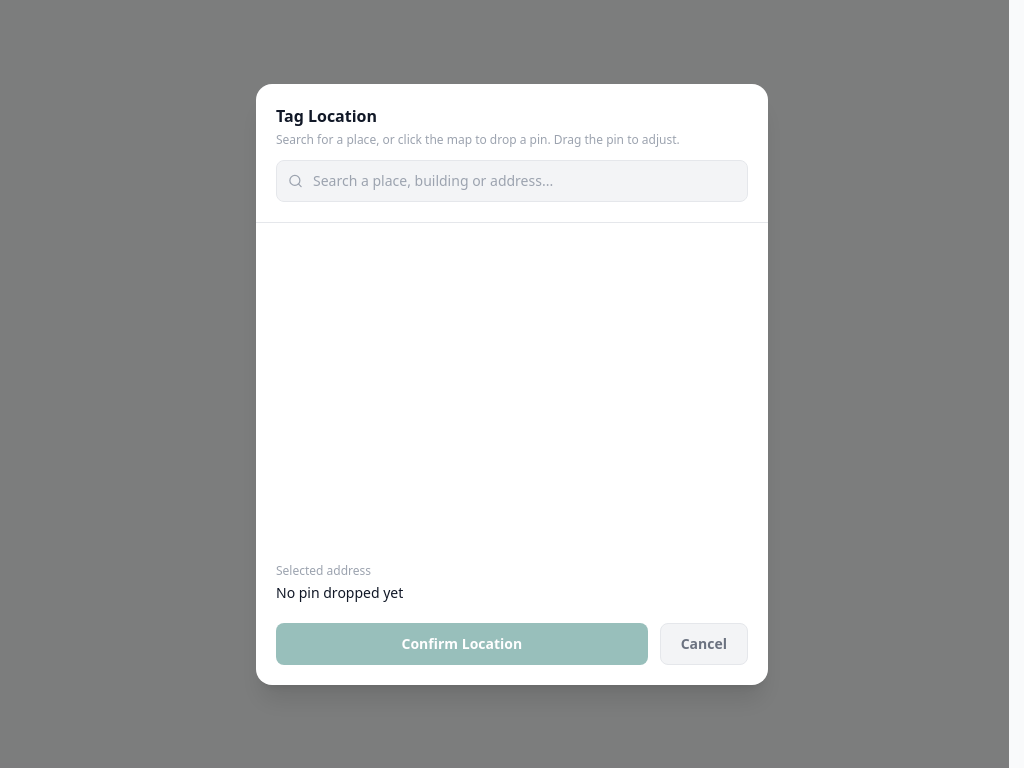
Scenario: LocationPicker place search › retrieves a selected place, moves the pin, and confirms its coordinates and address
Later steps or results of the test are not shown.
In the field with placeholder "Search a place, building or address...": (512,180) [276, 160, 748, 202], type "KLCC"
Wait 300 ms
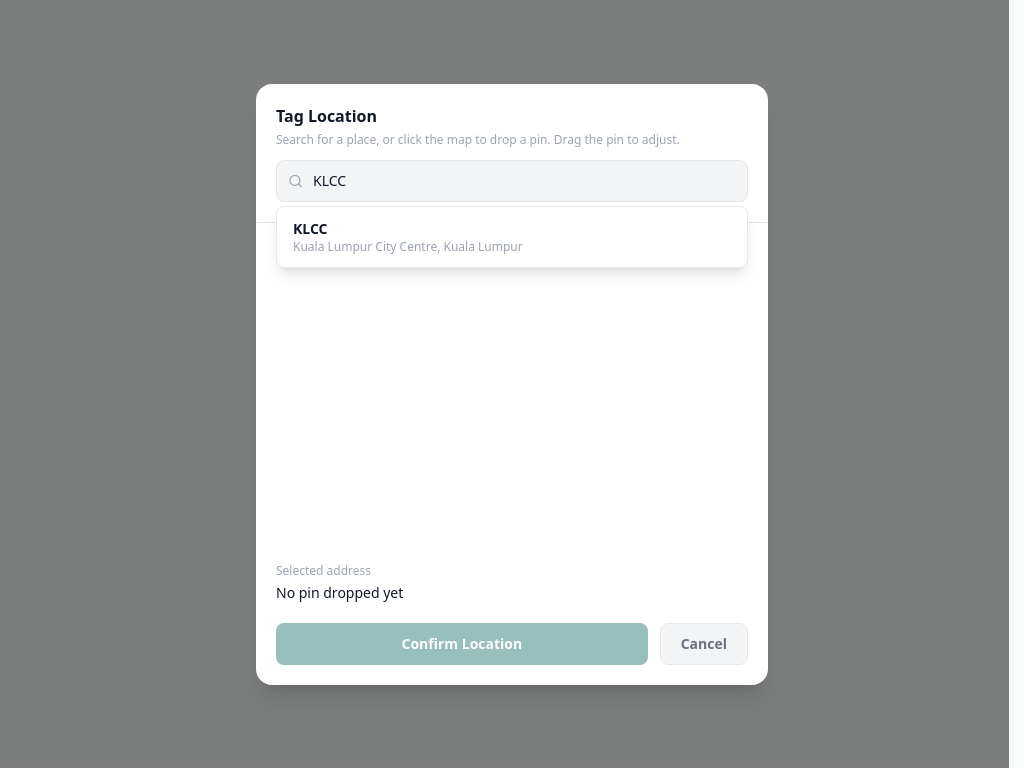
Press the mouse on the text "KLCC": (310,228) [293, 218, 328, 238]
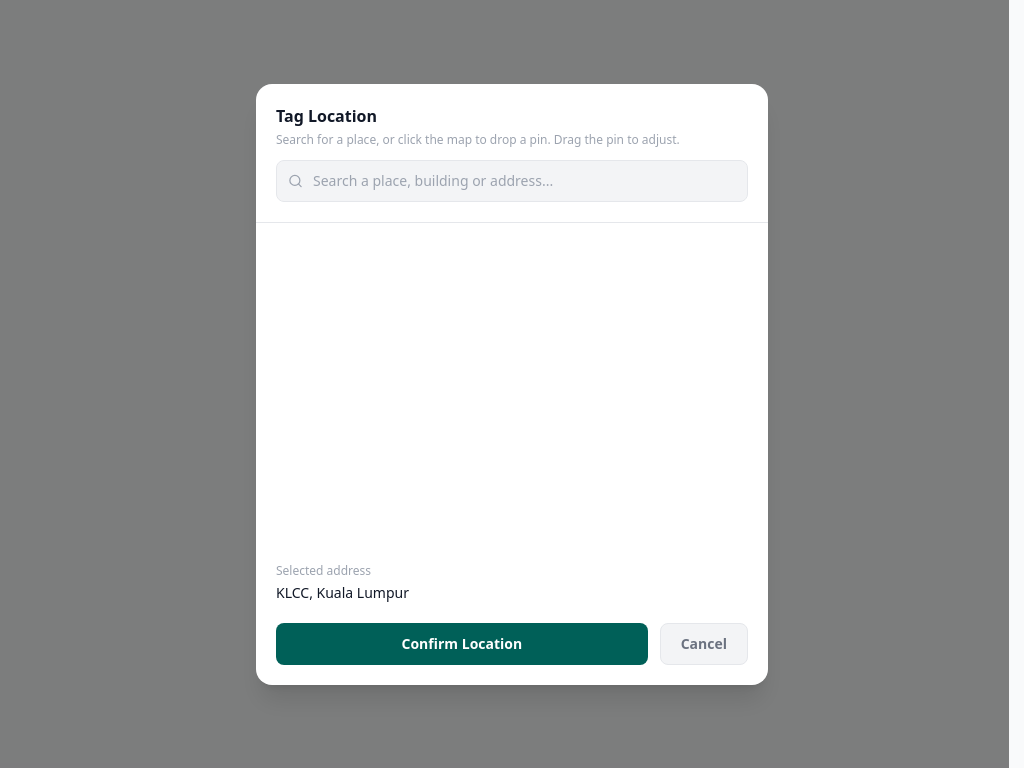
Now the text "KLCC, Kuala Lumpur" is shown, box [276, 582, 409, 602]
